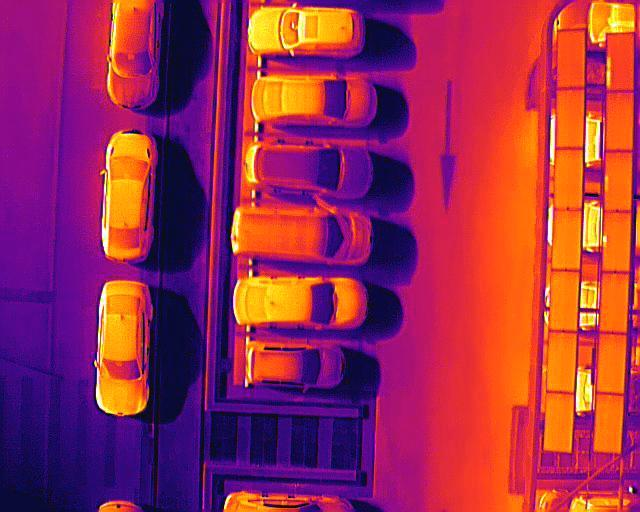Cell: (602, 210, 632, 273)
Cell-Multi: (606, 34, 637, 94)
No-Anomaly: (546, 330, 578, 395), (597, 332, 629, 395), (600, 272, 631, 336), (556, 29, 587, 90), (555, 148, 585, 211), (551, 207, 581, 270), (543, 393, 575, 452), (606, 91, 636, 152), (604, 152, 634, 212), (550, 271, 579, 333), (556, 89, 585, 149), (594, 395, 624, 453)
